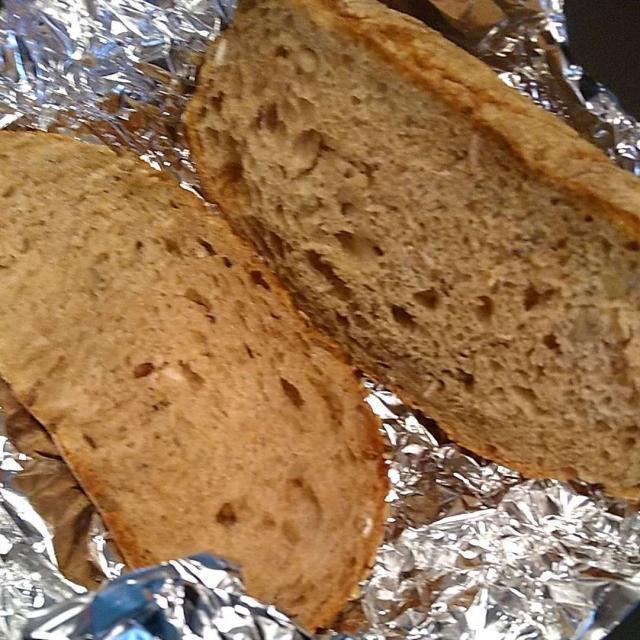bread: (197, 13, 636, 505)
